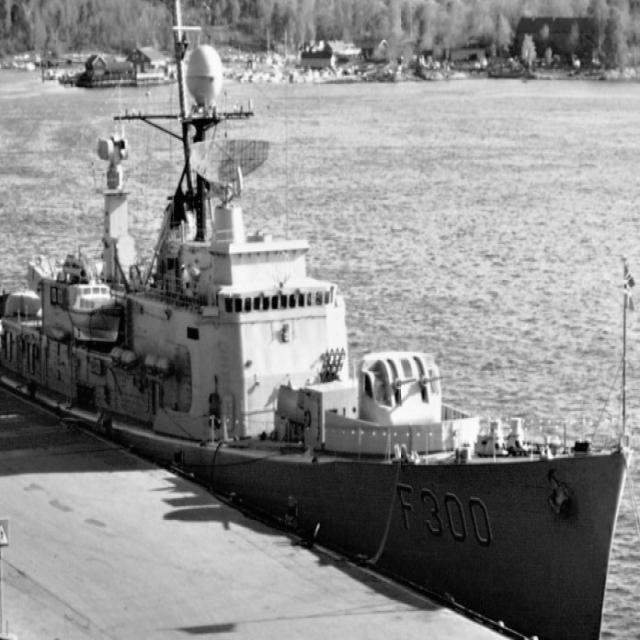Fragata: (1, 1, 635, 640)
